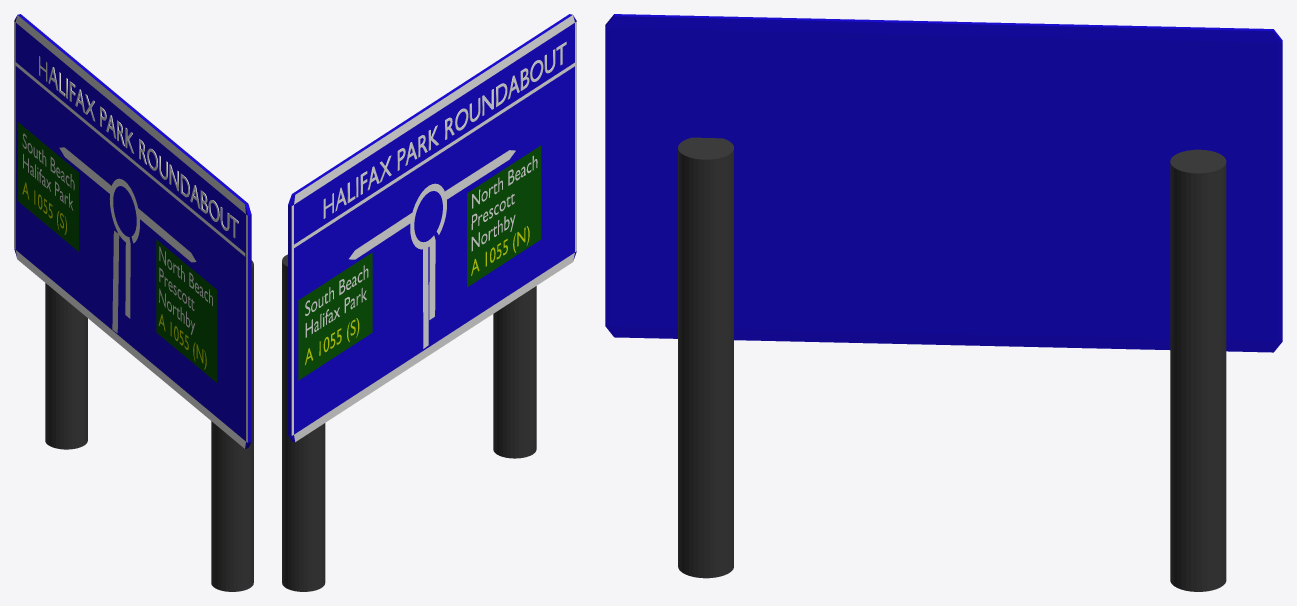
Rendered from RoundaboutSignHalifaxPark1.fbx.
The picture shows the model from 3 angles, left to right: view 1: azimuth 30°, elevation 25°; view 2: azimuth 150°, elevation 25°; view 3: azimuth 270°, elevation 25°; orthographic projection. The views are drawn at different scales.
Parts seen in each view (by area): view 1: Cube.030, Cylinder.001, Cylinder.002, ARoad.001, ARoad, STMRoundabout, DashedLine, TOWNCENTRE.003, TOWNCENTRE.001, RoundelM, DirectionPlaneM, RightArrowM (+3 smaller); view 2: Cube.030, Cylinder.002, Cylinder.001, ARoad.001, ARoad, STMRoundabout, DashedLine, TOWNCENTRE.003, TOWNCENTRE.001, RoundelM, RightArrowM, LeftArrowM (+2 smaller); view 3: Cube.030, Cylinder.002, Cylinder.001.
Boxes of the visible parts, x1,y1,x2,y2 form: Cube.030: (14, 14, 251, 448); Cylinder.001: (211, 260, 253, 591); Cylinder.002: (45, 283, 87, 449); ARoad.001: (156, 239, 217, 382); ARoad: (18, 122, 78, 251); STMRoundabout: (39, 56, 238, 237); DashedLine: (14, 61, 245, 256); TOWNCENTRE.003: (159, 246, 212, 334); TOWNCENTRE.001: (22, 133, 74, 210); RoundelM: (109, 178, 139, 244); DirectionPlaneM: (112, 231, 119, 332); RightArrowM: (137, 207, 196, 262); Cube.030: (288, 14, 576, 442); Cylinder.002: (282, 254, 325, 591); Cylinder.001: (493, 286, 536, 458); ARoad.001: (467, 145, 541, 287); ARoad: (298, 252, 372, 380); STMRoundabout: (323, 41, 566, 218); DashedLine: (294, 62, 575, 247); TOWNCENTRE.003: (471, 155, 537, 251); TOWNCENTRE.001: (305, 265, 368, 337); RoundelM: (410, 183, 446, 249); RightArrowM: (444, 150, 515, 201); LeftArrowM: (349, 212, 412, 259); Cube.030: (605, 14, 1282, 352); Cylinder.002: (1170, 149, 1226, 591); Cylinder.001: (678, 137, 733, 578).
Bounding box in the file's own units: 109 × 670 × 765.
